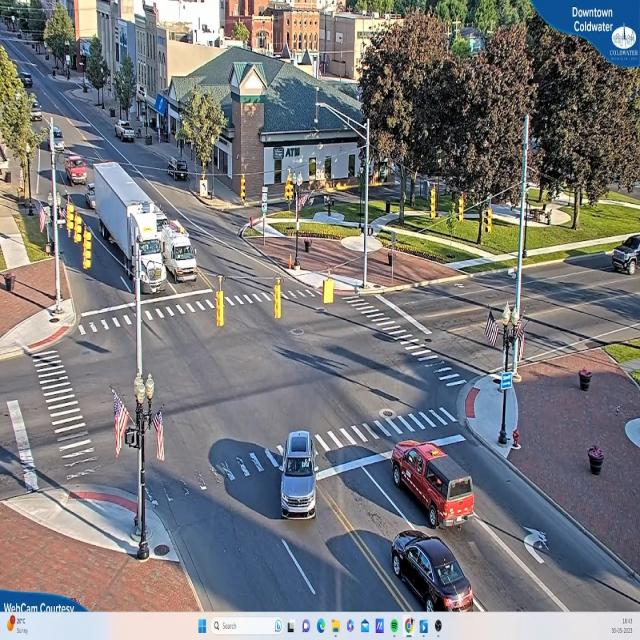car: (391, 438, 477, 530), (392, 528, 480, 610), (278, 430, 317, 520), (64, 158, 88, 185), (117, 122, 137, 144)
motorbike: (612, 235, 640, 276)
truck: (93, 162, 167, 290)
